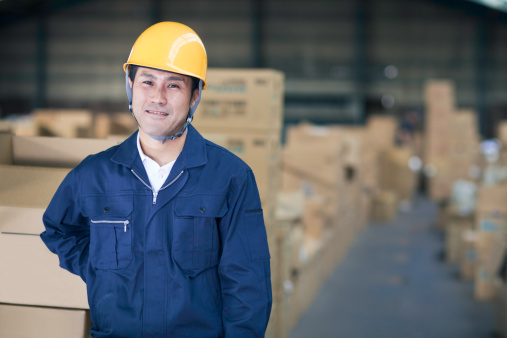em pe: (26, 26, 281, 338)
